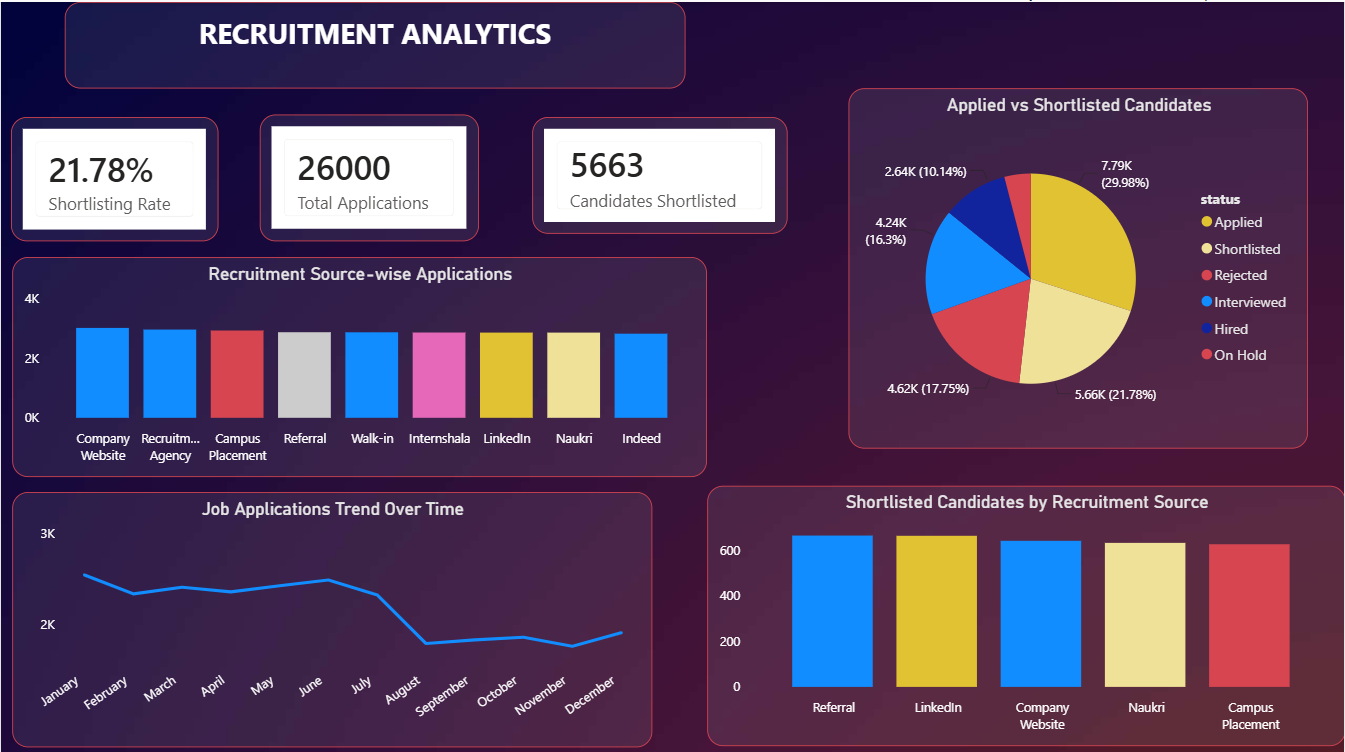

The dashboard page shown, as its layout file describes it:
{"tool":"powerbi","page":{"name":"Recruitment Analytics","canvas":[1280,720],"ordinal":1},"visuals":[{"type":"lineChart","title":"Job Applications Trend Over Time","fields":{"Y":["CountNonNull(cleaned_job_applications.application_id)"],"Category":["cleaned_job_applications.Application Month.Variation.Date Hierarchy.Month"]},"box":[11,466.6,609.3,242.9],"z":0},{"type":"pieChart","title":"Applied vs Shortlisted Candidates","fields":{"Category":["cleaned_job_applications.status"],"Y":["CountNonNull(cleaned_job_applications.application_id)"]},"box":[806.9,82.3,437.7,343.1],"z":1000},{"type":"cardVisual","title":"Total Applicati","fields":{"Data":["CountNonNull(cleaned_job_applications.application_id)"]},"box":[247,107,208.6,120.8],"z":2000},{"type":"cardVisual","fields":{"Data":["clean_payroll.Shortlisted Candidates"]},"box":[506.3,109.8,242.9,111.1],"z":3000},{"type":"cardVisual","fields":{"Data":["clean_payroll.Shortlisting Rate"]},"box":[9.6,109.8,197.6,118],"z":4000},{"type":"clusteredColumnChart","title":"Recruitment Source-wise Applications","fields":{"Category":["cleaned_job_applications.recruitment_source"],"Y":["CountNonNull(cleaned_job_applications.application_id)"]},"box":[11,242.9,661.4,209.9],"z":5000},{"type":"clusteredColumnChart","title":"Shortlisted Candidates by Recruitment Source","fields":{"Category":["cleaned_job_applications.recruitment_source"],"Y":["CountNonNull(cleaned_job_applications.application_id)"]},"box":[672.4,461.1,607.9,248.4],"z":6000},{"type":"textbox","box":[60.4,0,591.4,82.3],"z":7000}]}

Visuals, with their boxes in screenshot pixels (x1, y1, x2, y2), scaled from the page's 1280x720 canvas onto the 1345x752 screenshot:
"Job Applications Trend Over Time" lineChart: 12,487,652,741
"Applied vs Shortlisted Candidates" pieChart: 848,86,1308,444
"Total Applicati" cardVisual: 260,112,479,238
cardVisual - clean_payroll.Shortlisted Candidates: 532,115,787,231
cardVisual - clean_payroll.Shortlisting Rate: 10,115,218,238
"Recruitment Source-wise Applications" clusteredColumnChart: 12,254,707,473
"Shortlisted Candidates by Recruitment Source" clusteredColumnChart: 707,482,1344,741
textbox: 63,0,685,86
